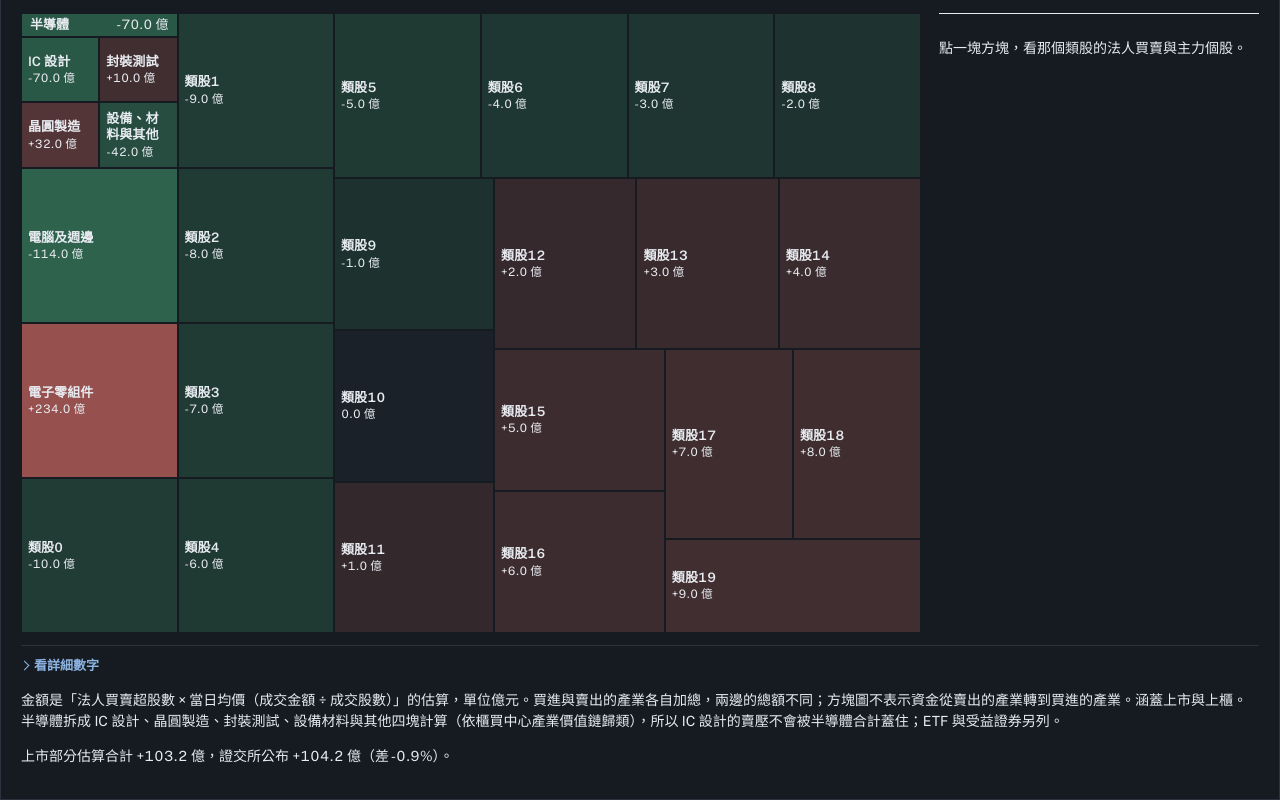
Test: SectorFlowPage: the table › shows the signed 億 figure and the turnover share per sector, with no bar
This screenshot has width=1280, height=800.
(page scrolled)
Click the heading "看詳細數字" at (60, 666), box [21,656,99,676]
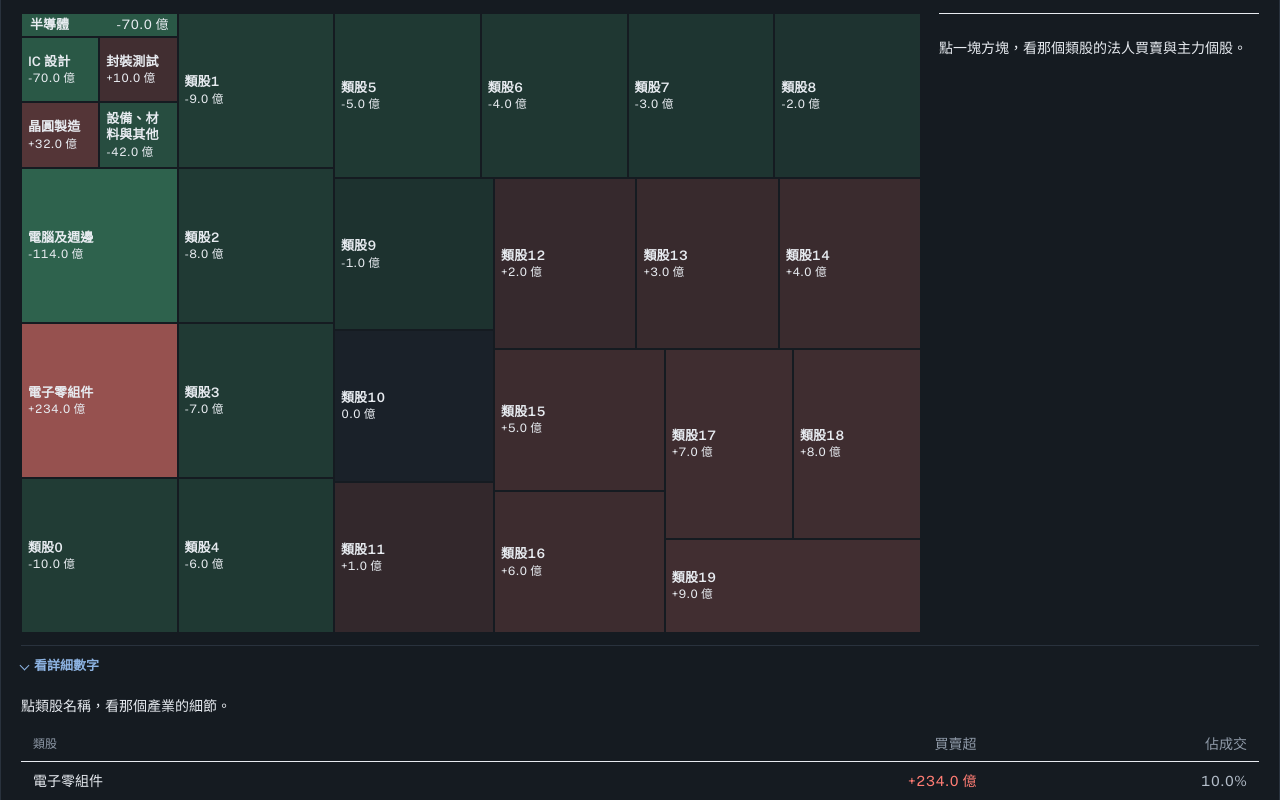
Expected: the text "點類股名稱，看那個產業的細節。" is shown, [21,698,231,714]
Expected: the column headings read "類股", "買賣超", "佔成交", in this order, [21,727,634,762]; [634,727,984,762]; [984,727,1259,762]
